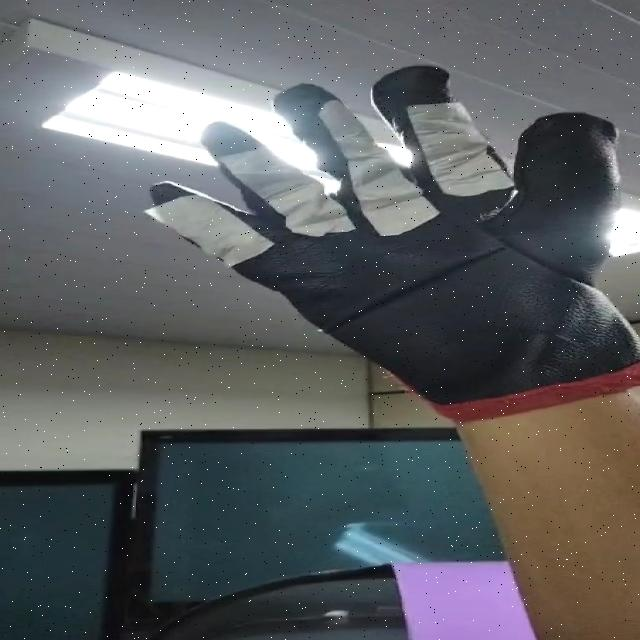Gloves: (146, 65, 640, 411)
